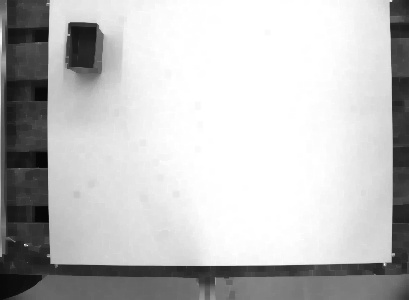kltxs: (63, 18, 106, 75)
